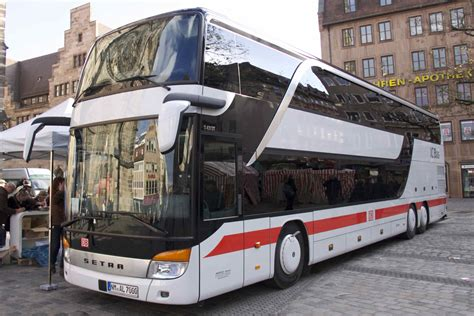bus: (66, 18, 449, 303)
